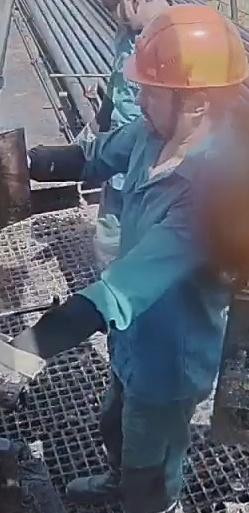gloves: (0, 322, 55, 413)
helmet: (122, 3, 248, 102)
vest: (102, 135, 231, 406), (89, 36, 163, 182)
